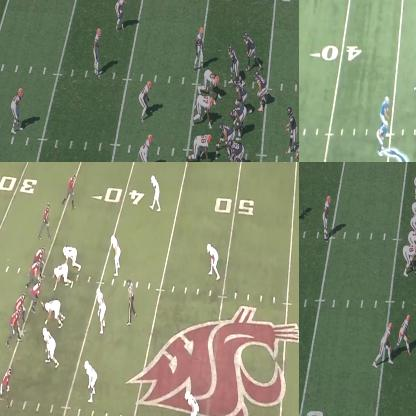CENTER: (219, 122, 233, 154), (31, 280, 44, 314)
DB: (12, 88, 24, 132), (85, 359, 96, 400), (207, 244, 219, 276), (96, 27, 103, 79), (115, 0, 127, 30), (197, 27, 205, 70), (324, 195, 332, 236), (151, 174, 160, 210)
LB: (140, 80, 153, 123), (46, 326, 58, 363), (96, 291, 106, 333), (112, 234, 122, 274), (140, 133, 154, 161)
QB: (288, 107, 299, 154), (380, 96, 390, 122), (409, 208, 415, 230)
SKILL: (379, 322, 393, 365), (244, 30, 260, 66), (398, 313, 412, 353), (254, 70, 266, 110), (187, 383, 200, 415), (228, 44, 241, 72), (0, 367, 13, 395), (378, 119, 388, 154), (43, 204, 52, 240), (65, 175, 75, 205)
